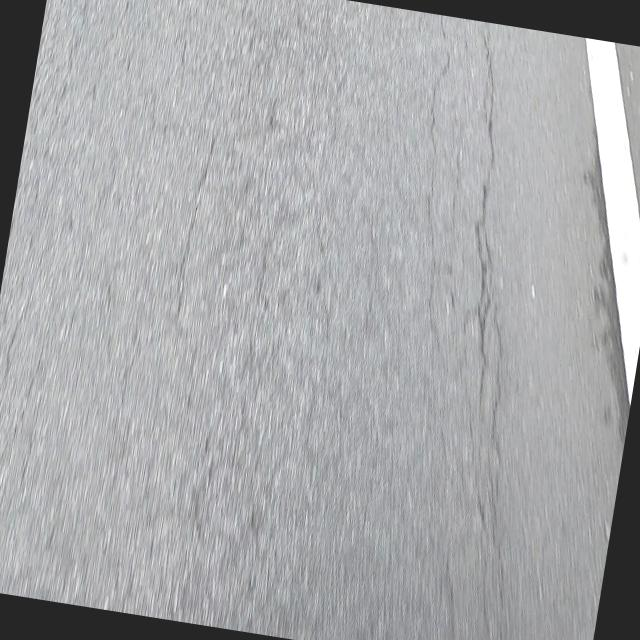Retak-Memanjang: (425, 15, 452, 355), (474, 31, 497, 411), (175, 134, 216, 318), (489, 305, 505, 613)
